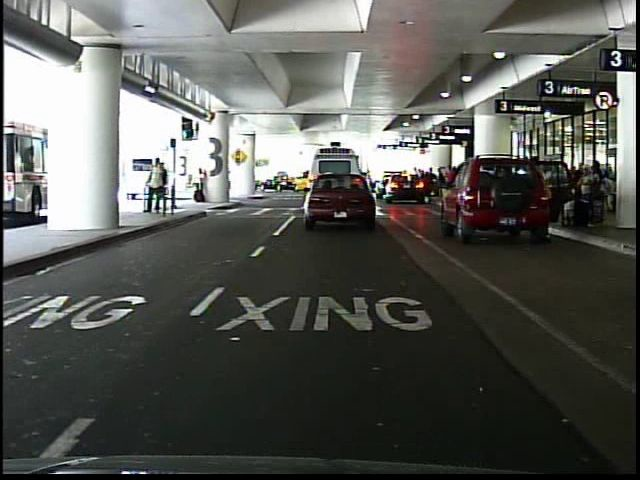person: (528, 154, 558, 234), (145, 156, 165, 216), (159, 162, 175, 215), (191, 167, 210, 206), (443, 163, 460, 201)
